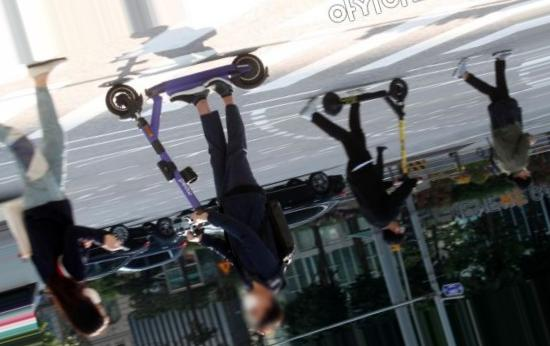scooter: (105, 53, 269, 243), (323, 77, 427, 189)
